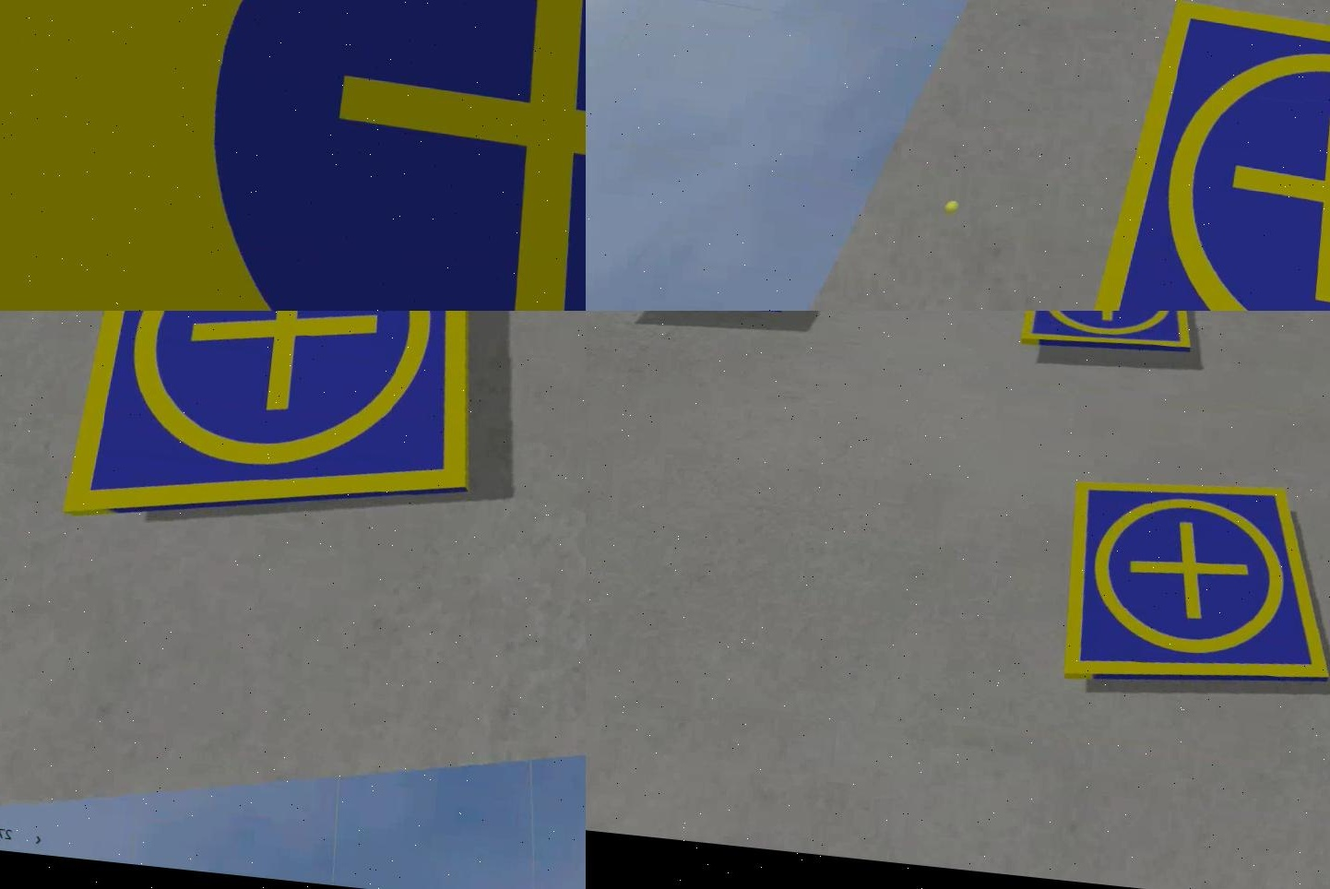large_base: (0, 1, 584, 312)
small_base: (53, 312, 499, 558), (1068, 1, 1328, 312), (1047, 461, 1328, 717), (1015, 312, 1196, 365)
